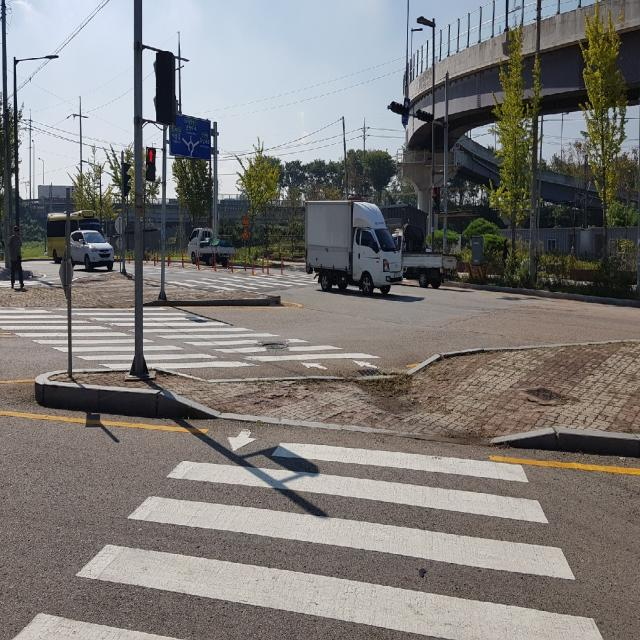빨간불: (145, 149, 157, 182)
횡단보도: (8, 424, 607, 640), (0, 304, 380, 379)
